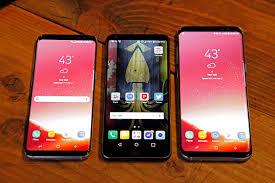lg: (173, 24, 256, 162), (22, 32, 100, 162), (96, 30, 174, 160)
